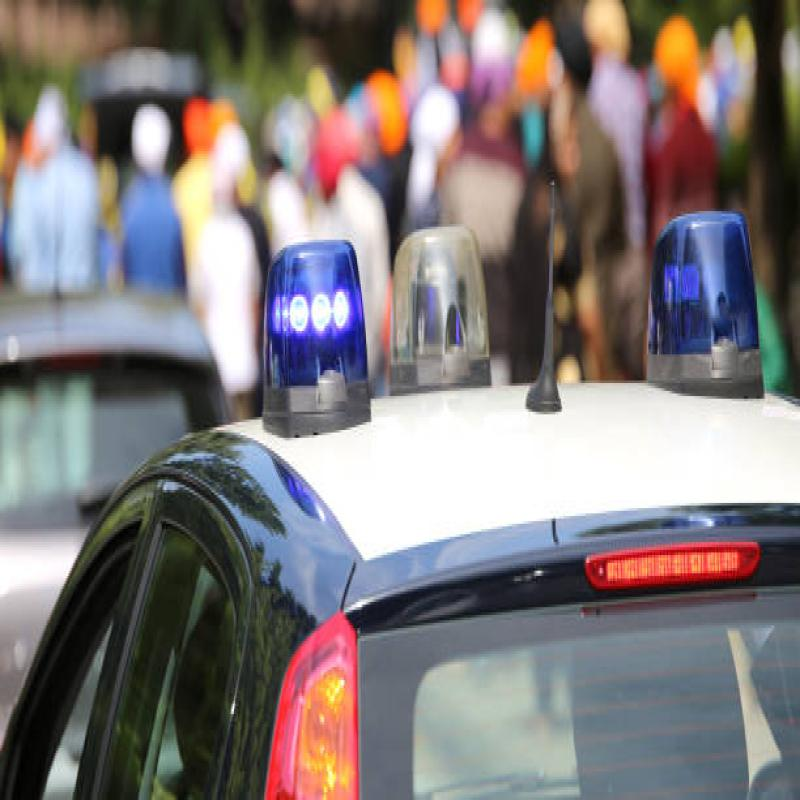AmbulanceSiren: (640, 200, 800, 411), (252, 189, 374, 426)
